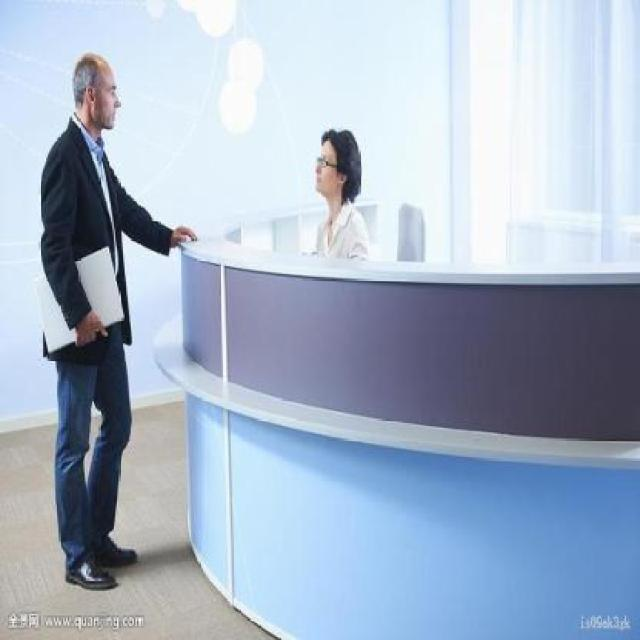frontdesk: (159, 181, 638, 640)
